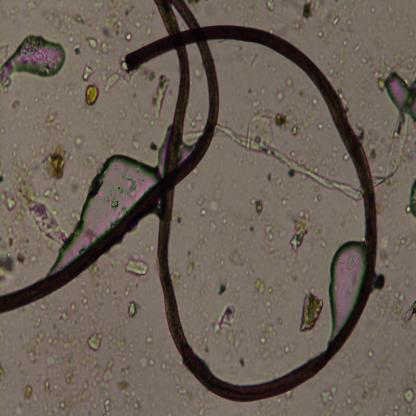Air bubble: (58, 150, 155, 256), (327, 241, 368, 344), (0, 32, 65, 83), (385, 70, 409, 108)
Background material: (25, 304, 89, 380), (344, 336, 390, 414), (21, 194, 66, 247), (253, 277, 284, 347), (375, 223, 416, 271), (74, 267, 121, 305), (50, 379, 98, 416), (159, 350, 190, 404), (5, 141, 35, 194), (80, 112, 122, 149), (189, 302, 215, 354), (36, 1, 84, 29), (374, 274, 402, 322), (214, 304, 245, 346), (298, 288, 326, 334), (286, 210, 314, 256), (0, 233, 25, 283), (97, 0, 126, 40), (189, 195, 217, 236), (41, 145, 69, 184), (261, 220, 286, 263), (86, 357, 116, 392), (151, 70, 171, 122), (248, 110, 275, 147), (119, 366, 140, 412), (328, 38, 350, 80), (264, 169, 288, 204), (275, 108, 303, 137), (126, 7, 154, 35), (171, 258, 199, 284), (391, 387, 416, 416), (391, 45, 416, 72), (320, 383, 342, 413), (104, 326, 128, 352), (125, 257, 149, 280), (342, 0, 358, 33), (372, 57, 388, 90), (110, 184, 127, 215), (401, 297, 416, 328), (103, 72, 122, 96), (324, 7, 342, 32), (358, 69, 374, 96), (84, 85, 101, 110), (3, 209, 20, 234), (88, 36, 109, 56), (12, 355, 31, 377), (216, 274, 235, 296), (86, 329, 103, 353), (352, 41, 369, 65), (301, 0, 320, 21), (39, 183, 62, 200), (308, 179, 323, 205), (248, 197, 266, 218), (40, 376, 58, 396), (0, 191, 17, 212), (44, 110, 61, 131), (408, 175, 416, 219), (22, 382, 38, 404), (121, 170, 141, 187), (8, 94, 24, 114), (244, 50, 260, 70), (124, 299, 140, 319), (230, 248, 245, 269), (141, 324, 156, 344), (69, 37, 82, 60), (0, 357, 10, 385), (291, 15, 306, 33), (288, 149, 306, 164), (317, 24, 328, 48), (122, 341, 135, 361), (189, 110, 204, 127), (196, 394, 209, 413), (139, 354, 154, 370), (278, 342, 290, 362), (82, 65, 94, 83), (101, 397, 113, 415), (71, 135, 85, 150), (308, 92, 319, 110), (265, 0, 277, 16), (193, 65, 206, 79), (310, 161, 323, 175), (12, 399, 22, 416), (147, 138, 159, 152), (250, 96, 263, 108), (284, 74, 295, 88), (360, 98, 373, 109), (340, 150, 351, 163), (274, 90, 285, 101), (132, 139, 141, 152), (222, 213, 229, 227), (126, 32, 133, 44), (370, 6, 378, 14), (318, 123, 323, 131)
Cellulose filter fibre: (217, 122, 362, 210), (374, 80, 416, 186)
Microfibre: (148, 0, 376, 401), (0, 1, 221, 314)
